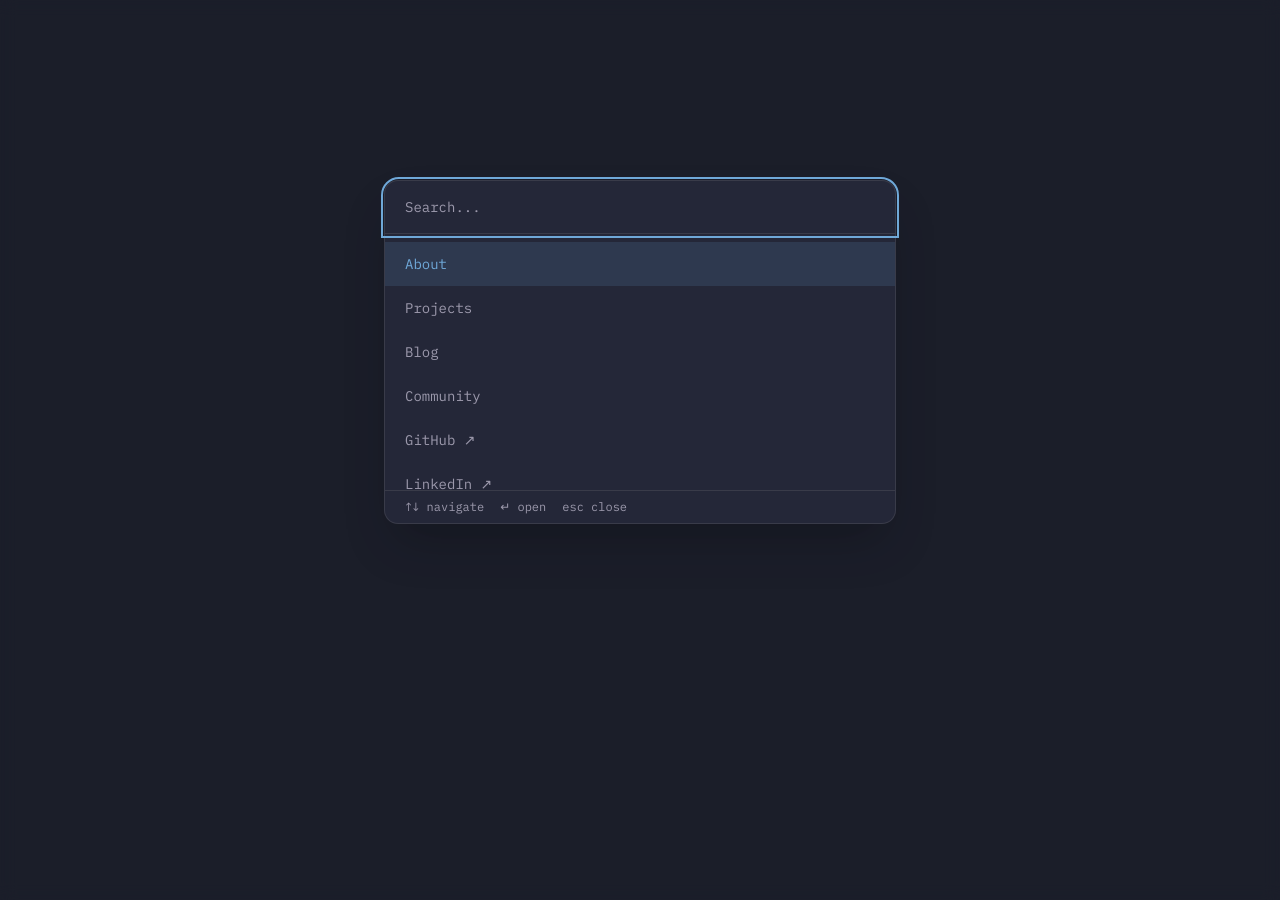
Test: filters items by query
Type "proj" into the field. click: (640, 208)
box: top-left (385, 181), bottom-right (895, 234)
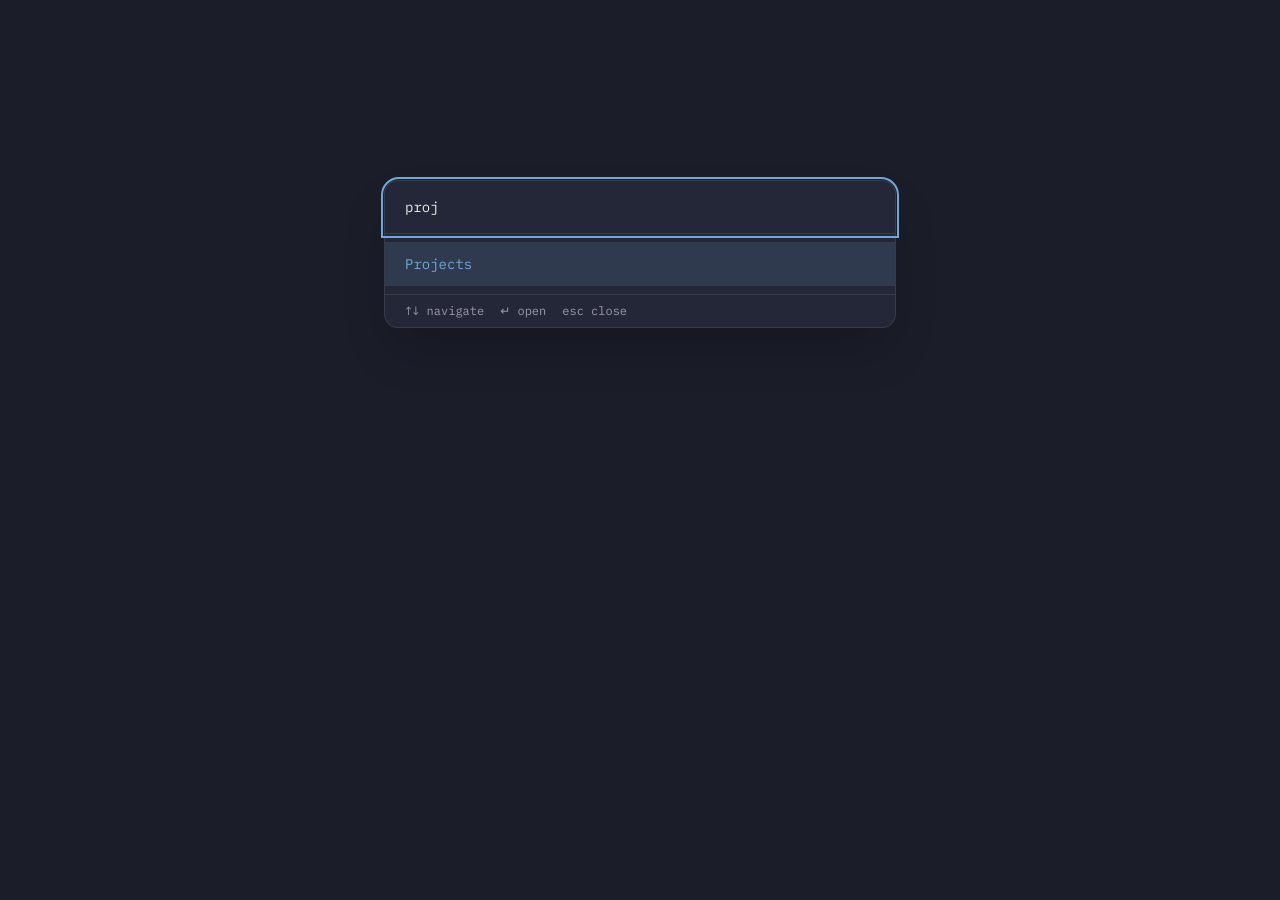
Expected: the link "Projects" is shown, top-left (385, 242), bottom-right (895, 286)
Expected: the link "Blog" is gone
